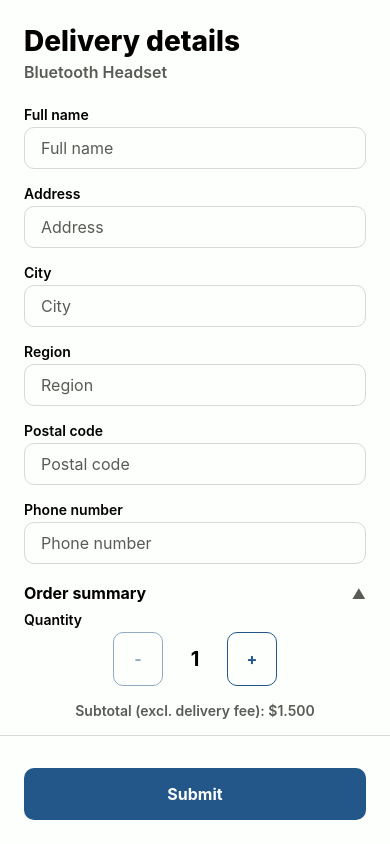
DeliveryScreen order result › hides the modal when the backdrop is pressed
Step 1. Type "John Doe" into the field labelled "Full name" → coordinates (195, 148), box [24,127,366,169]
Step 2. Type "Calle 123 #45-67" into the field labelled "Address" → coordinates (195, 227), box [24,206,366,248]
Step 3. Type "Bogotá" into the field labelled "City" → coordinates (195, 306), box [24,285,366,327]
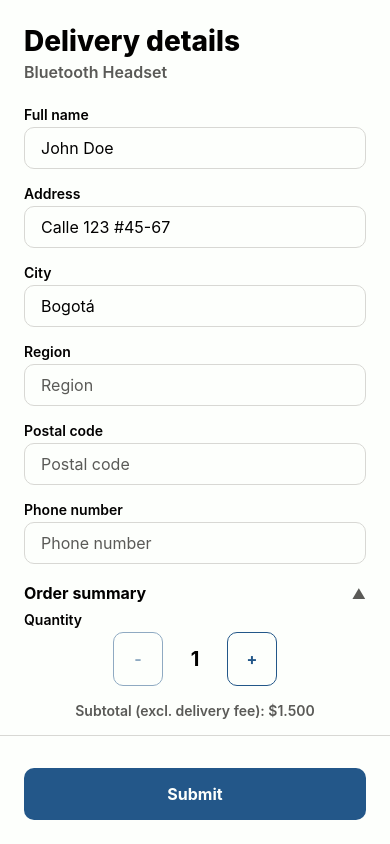
Step 4. Type "Bogotá D.C." into the field labelled "Region" → coordinates (195, 385), box [24,364,366,406]
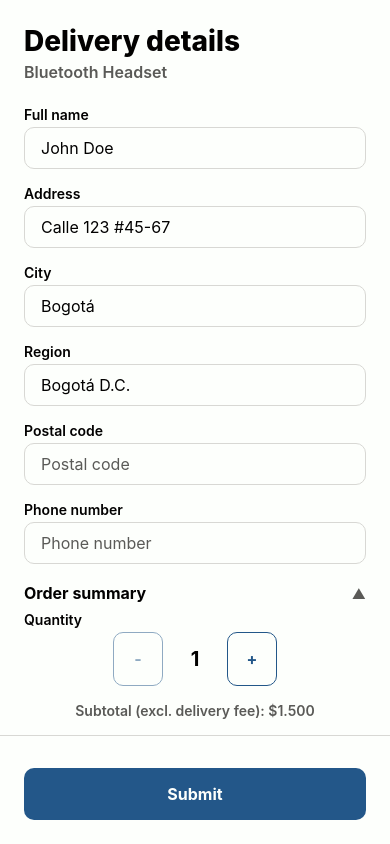
Step 5. Type "110111" into the field labelled "Postal code" → coordinates (195, 464), box [24,443,366,485]
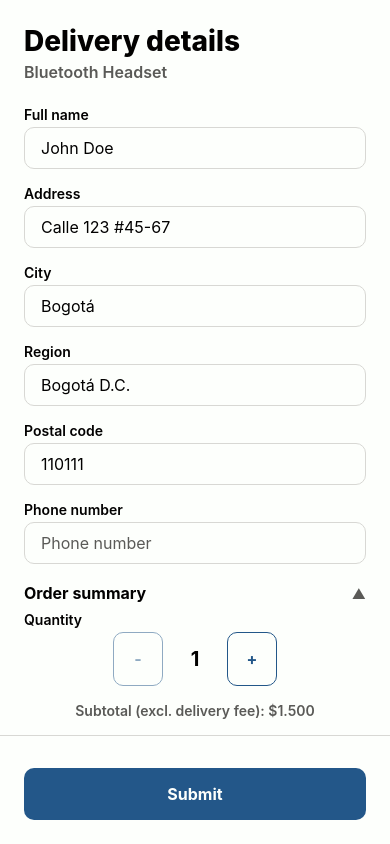
Step 6. Type "3001234567" into the field labelled "Phone number" → coordinates (195, 543), box [24,522,366,564]
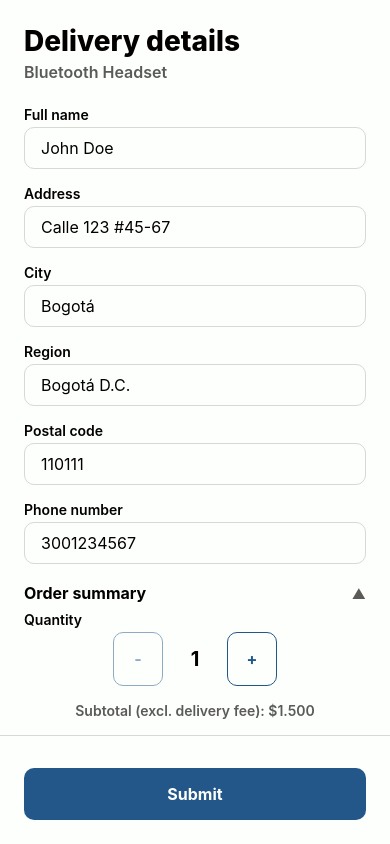
Step 7. Click the text "Submit" → coordinates (195, 794), box [167,784,223,804]
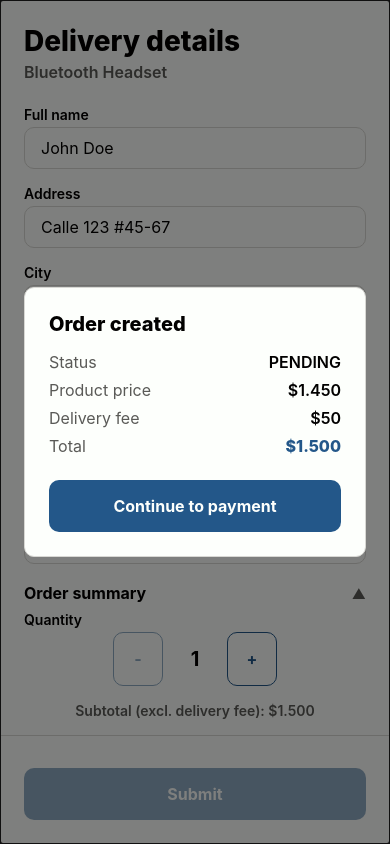
Expected: the element with test id "order-result-card" is shown, [24,287,366,557]
Step 8. Click the element with test id "receipt-backdrop" → coordinates (367, 422), box [0,0,389,843]
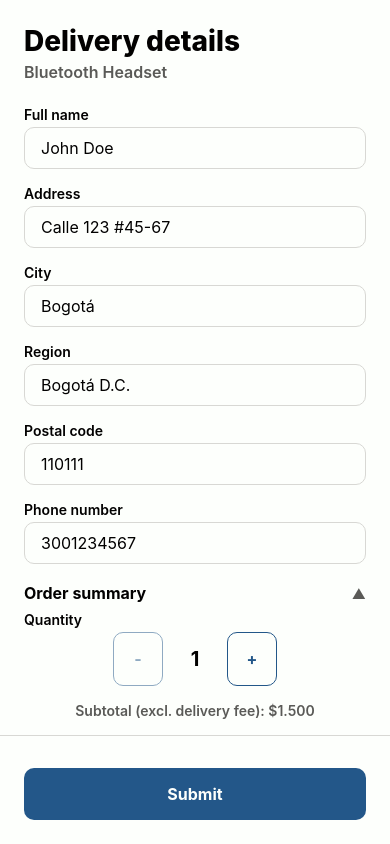
Expected: the element with test id "receipt-backdrop" is gone
